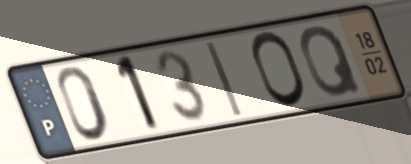0: (55, 64, 112, 144)
1: (112, 52, 164, 134)
3: (155, 48, 211, 127)
I: (202, 39, 247, 120)
O: (249, 29, 310, 111)
Q: (298, 23, 366, 101)
